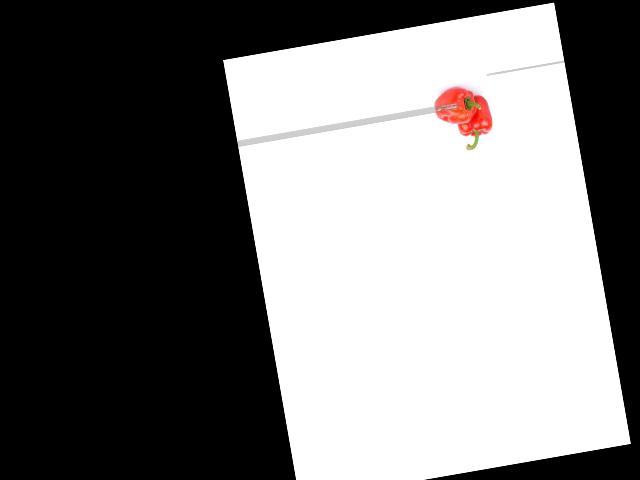bell_pepper: (426, 84, 482, 131)
